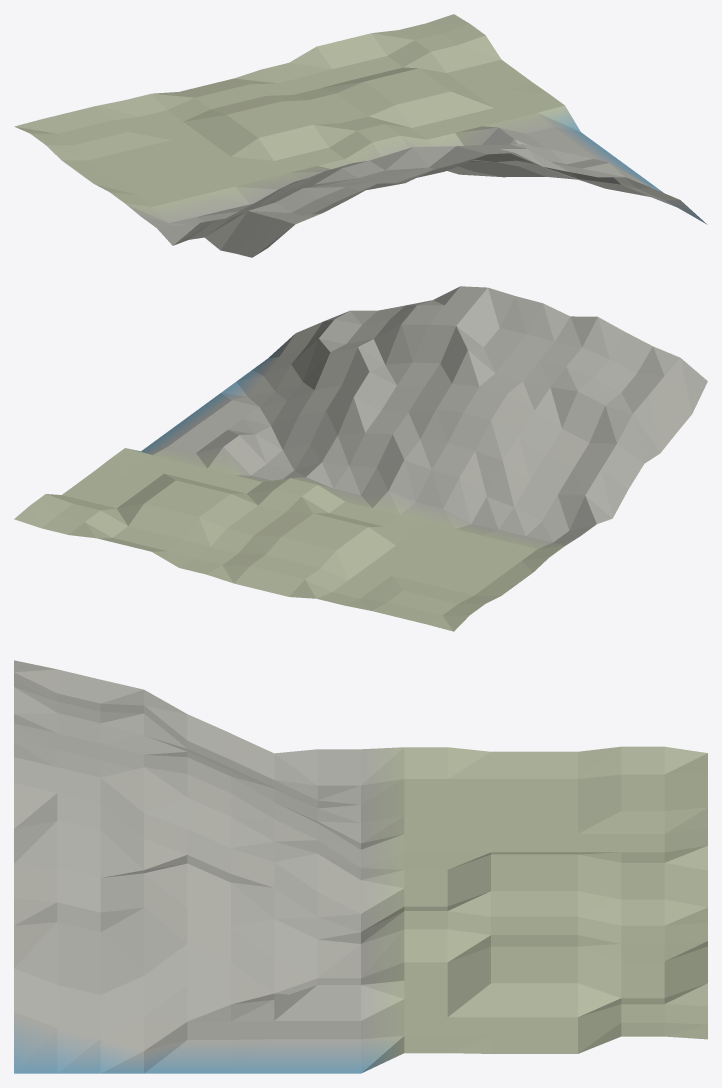
3 views of the same model, one above another, from view 1: azimuth 30°, elevation 25°; view 2: azimuth 150°, elevation 25°; view 3: azimuth 270°, elevation 25° (orthographic). The views are drawn at different scales.
Bounding box in the file's own units: 32 × 8.65 × 32.
